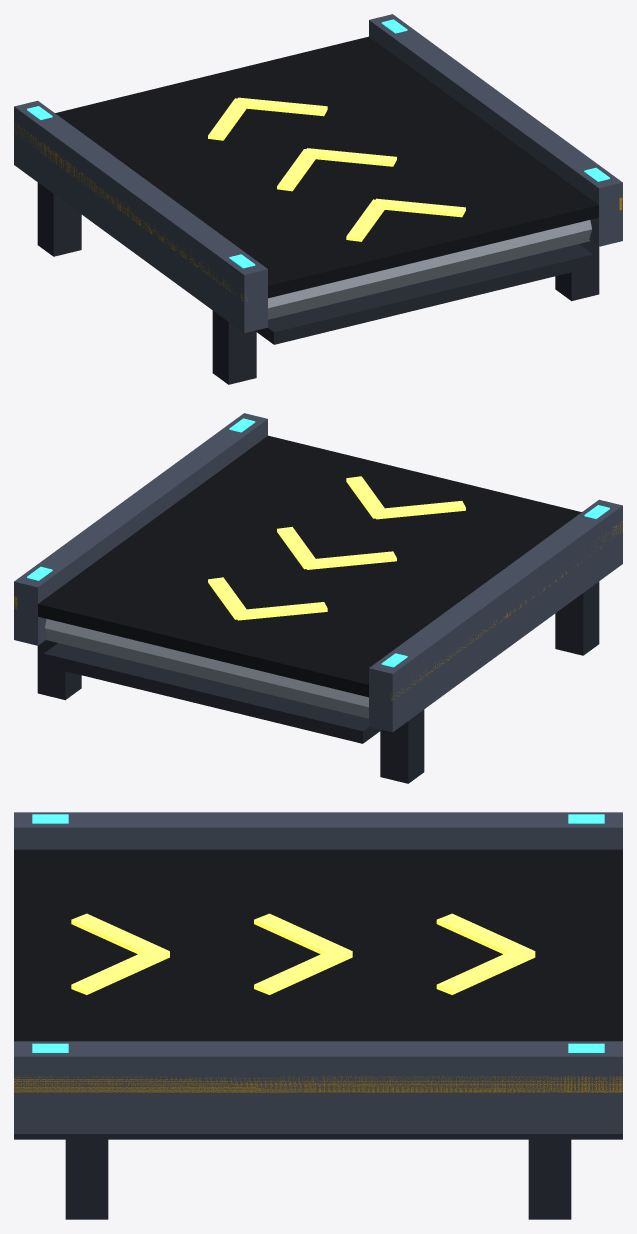
File: conveyor.glb
The picture shows the model from 3 angles, top to bottom: view 1: azimuth 30°, elevation 25°; view 2: azimuth 150°, elevation 25°; view 3: azimuth 270°, elevation 25°; orthographic projection. The views are drawn at different scales.
Parts seen in each view (by area): view 1: conveyor; view 2: conveyor; view 3: conveyor.
Boxes of the visible parts, x1,y1,x2,y2 form: conveyor: [14, 14, 622, 384]; conveyor: [14, 413, 622, 783]; conveyor: [14, 812, 622, 1219].
Size of the model in its own units: 0.95 by 0.303 by 1.
